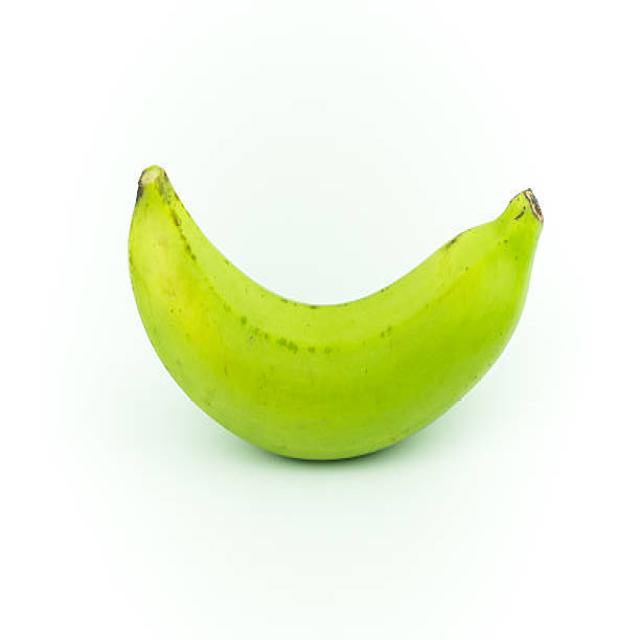banana: (125, 164, 545, 467)
